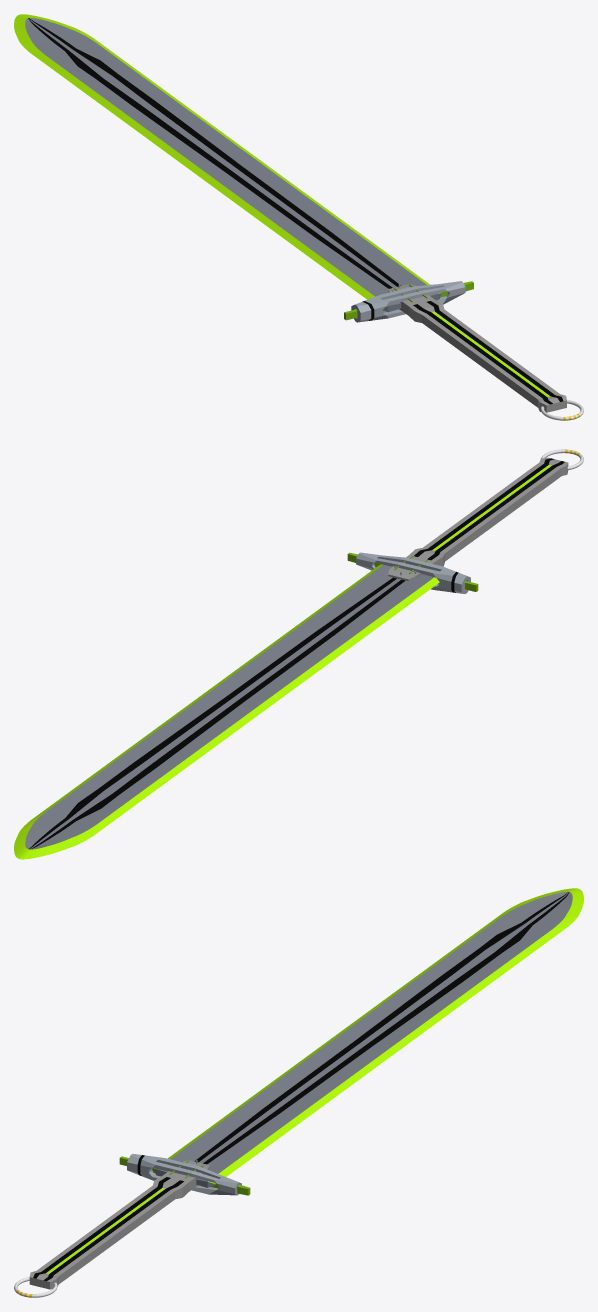
File: uploads_files_2065660_neon+sword(yellow).fbx
3 views of the same model, one above another, from view 1: azimuth 30°, elevation 25°; view 2: azimuth 150°, elevation 25°; view 3: azimuth 330°, elevation 25° (orthographic).
Parts seen in each view (by area): view 1: Плоскость.002, Плоскость.003, Плоскость.001; view 2: Плоскость.002, Плоскость.003, Плоскость.001; view 3: Плоскость.002, Плоскость.003, Плоскость.001.
Part boxes in pixels (x1,y1,x2,y2): Плоскость.002: (14,14,441,312); Плоскость.003: (388,284,566,412); Плоскость.001: (344,281,473,322); Плоскость.002: (14,564,439,859); Плоскость.003: (388,457,568,581); Плоскость.001: (347,552,478,593); Плоскость.002: (153,888,583,1187); Плоскость.003: (29,1160,209,1289); Плоскость.001: (119,1154,250,1195).
Bounding box in the file's own units: 165 × 20.45 × 1234.
